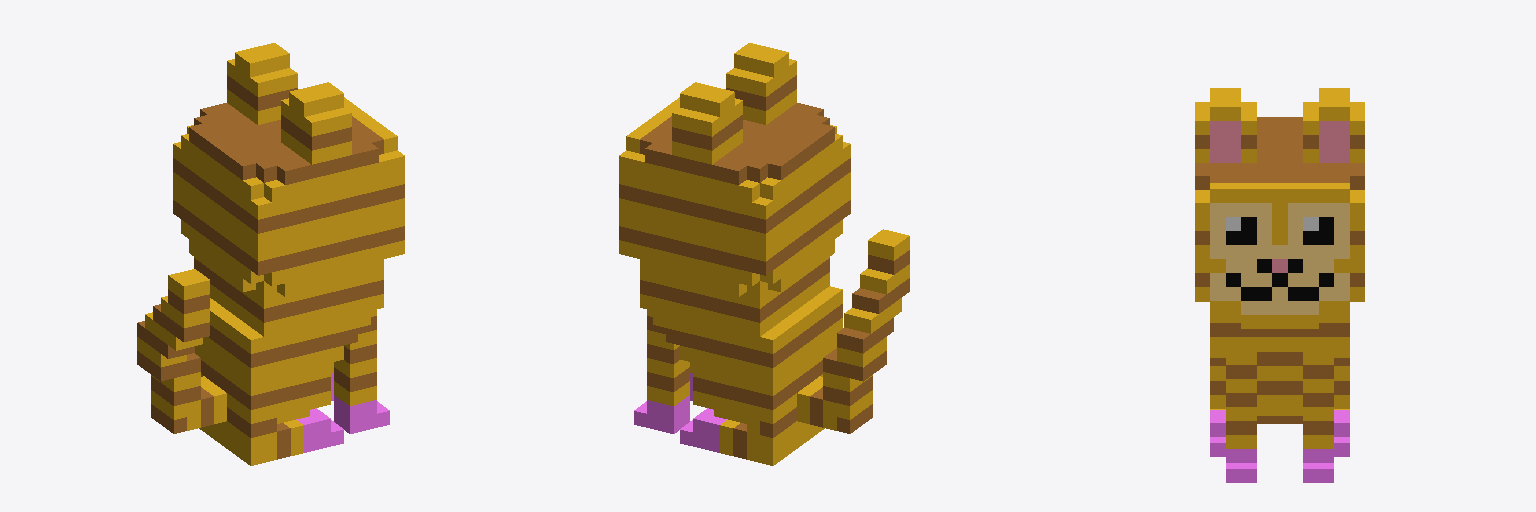
3 views of the same model, side by side, from view 1: azimuth 30°, elevation 25°; view 2: azimuth 150°, elevation 25°; view 3: azimuth 270°, elevation 25° (orthographic).
Bounding box in the file's own units: 16 × 25 × 11.
Materials: 1 (1 with a texture image).